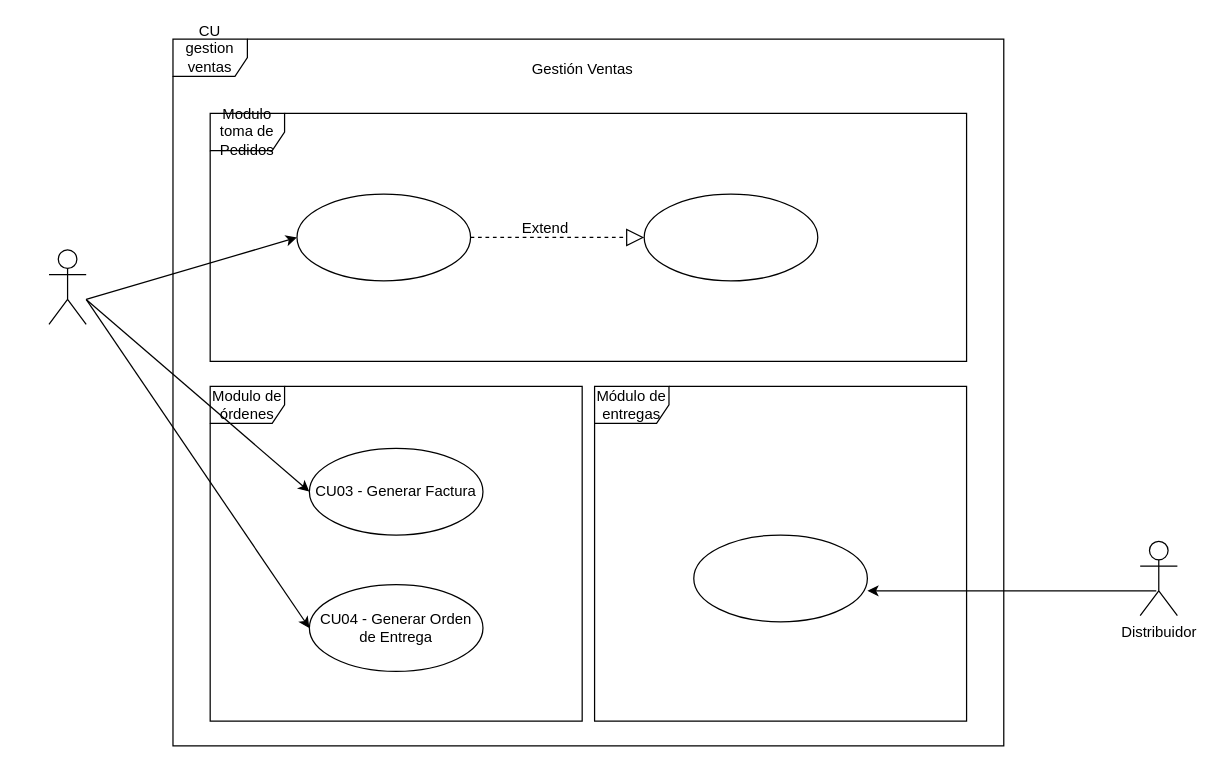
Some shapes in this 1218 by 768 pixel diagram are drawn without their labels. The centre of each missing label's shape, as x and y in pixels:
Administrativo: the point at 67,286
CU01 - Gestionar Orden: the point at 383,237
CU02 - Registrar Cliente: the point at 730,237
CU05 - Gestionar Orden de Entrega: the point at 780,578
